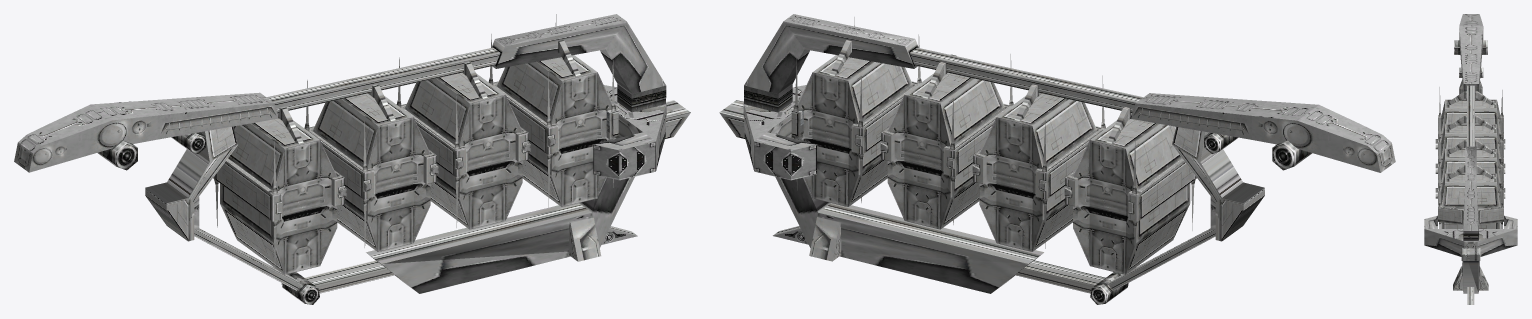
Rendered from spp13.obj.
3 views of the same model, side by side, from view 1: azimuth 30°, elevation 25°; view 2: azimuth 150°, elevation 25°; view 3: azimuth 270°, elevation 25° (orthographic). The views are drawn at different scales.
Parts seen in each view (by area): view 1: SPP130, BACK0.001, MIDDLE0, MIDDLE010; view 2: SPP130, BACK0.001, MIDDLE0, MIDDLE010; view 3: BACK0.001, SPP130, MIDDLE0, MIDDLE010.
Boxes of the visible parts, <box> form: SPP130: <box>14,47,500,304</box>; BACK0.001: <box>366,14,690,293</box>; MIDDLE0: <box>304,80,436,251</box>; MIDDLE010: <box>396,54,528,229</box>; SPP130: <box>909,47,1395,304</box>; BACK0.001: <box>719,14,1043,293</box>; MIDDLE0: <box>973,75,1105,251</box>; MIDDLE010: <box>881,54,1013,229</box>; BACK0.001: <box>1424,146,1517,304</box>; SPP130: <box>1438,14,1503,146</box>; MIDDLE0: <box>1438,111,1503,163</box>; MIDDLE010: <box>1438,136,1503,188</box>.
Size of the model in its own units: 122 by 44.49 by 27.48.
Materials: 10 (10 with a texture image).
